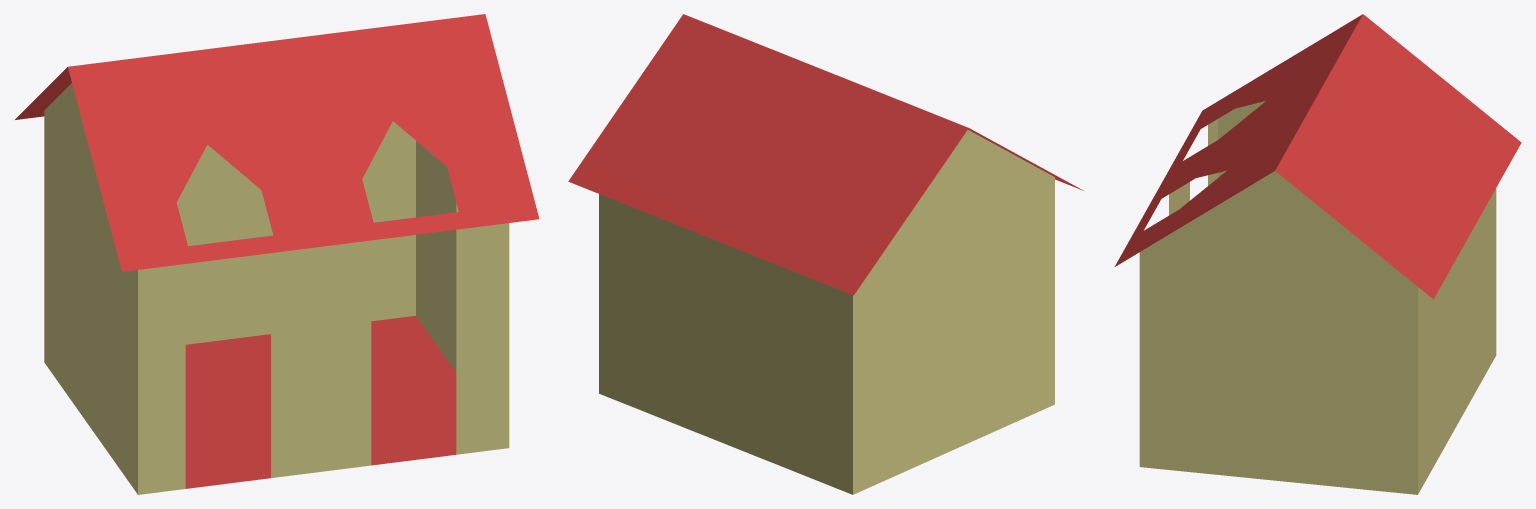
3 views of the same model, side by side, from view 1: azimuth 30°, elevation 25°; view 2: azimuth 150°, elevation 25°; view 3: azimuth 270°, elevation 25° (orthographic). The views are drawn at different scales.
Visible parts, largest first — view 1: group_5, group_3, group_6, group_4; view 2: group_5, group_3; view 3: group_5, group_3, group_4.
Part boxes in pixels (x1,y1,x2,y2): group_5: (44,83,509,494); group_3: (15,14,539,271); group_6: (185,316,456,488); group_4: (72,26,539,271); group_5: (599,130,1054,494); group_3: (568,14,1083,295); group_5: (1139,101,1496,494); group_3: (1114,14,1521,298); group_4: (1116,30,1336,265).
Size of the model in its own units: 21.17 by 19.3 by 16.67.
